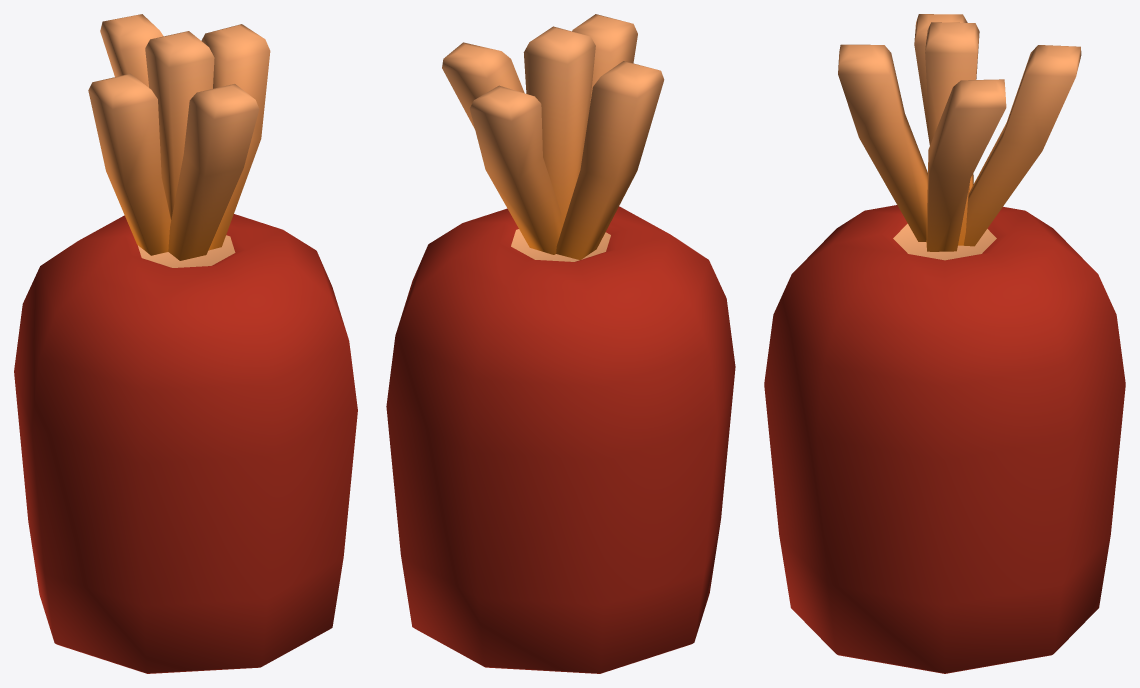
Rendered from Carrot_half_02.fbx.
The picture shows the model from 3 angles, left to right: view 1: azimuth 30°, elevation 25°; view 2: azimuth 150°, elevation 25°; view 3: azimuth 270°, elevation 25°; orthographic projection.
Visible parts, largest first — view 1: Carrot_half_02; view 2: Carrot_half_02; view 3: Carrot_half_02.
Boxes of the visible parts, x1,y1,x2,y2 form: Carrot_half_02: (14,14,357,673); Carrot_half_02: (386,14,735,673); Carrot_half_02: (764,14,1125,673).
Bounding box in the file's own units: 41.22 × 41.22 × 73.04.
